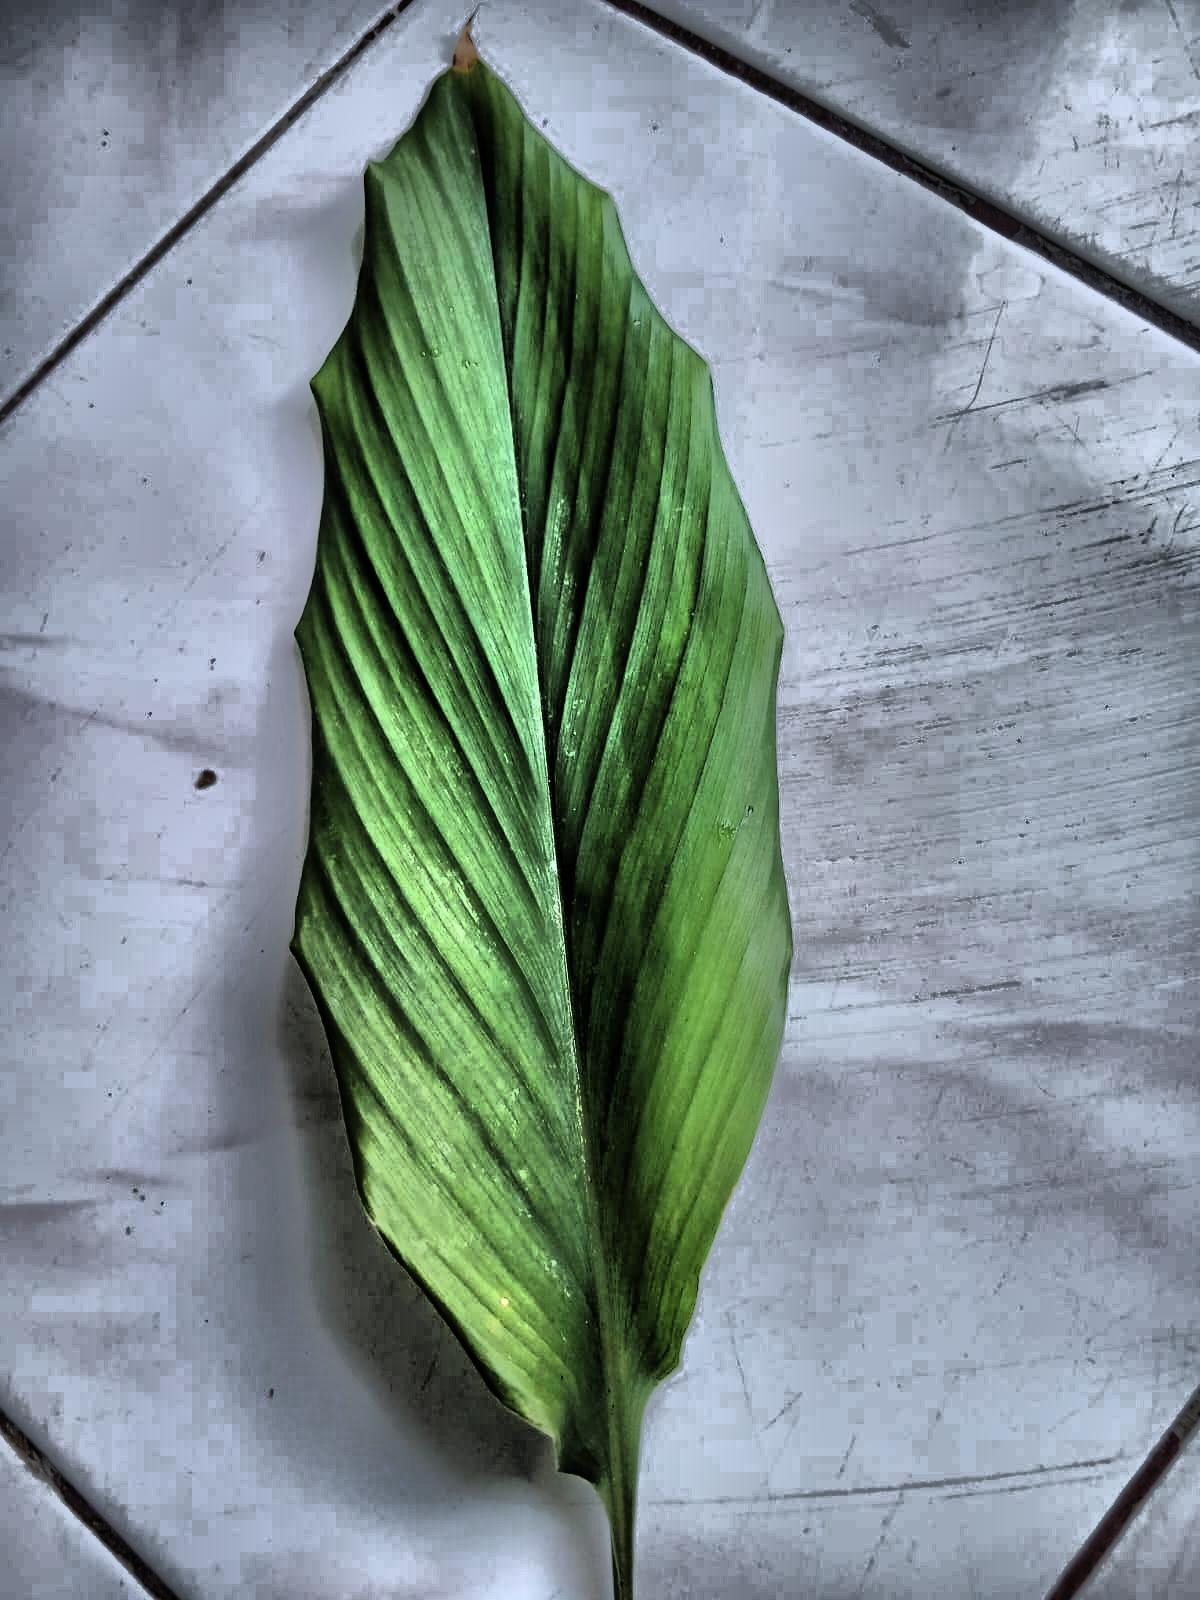daun kunyit: (292, 35, 792, 1599)
